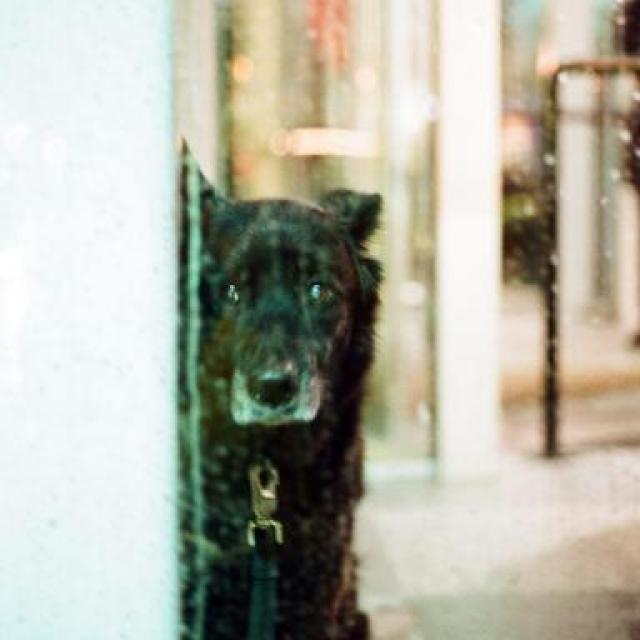sad: (170, 105, 382, 640)
